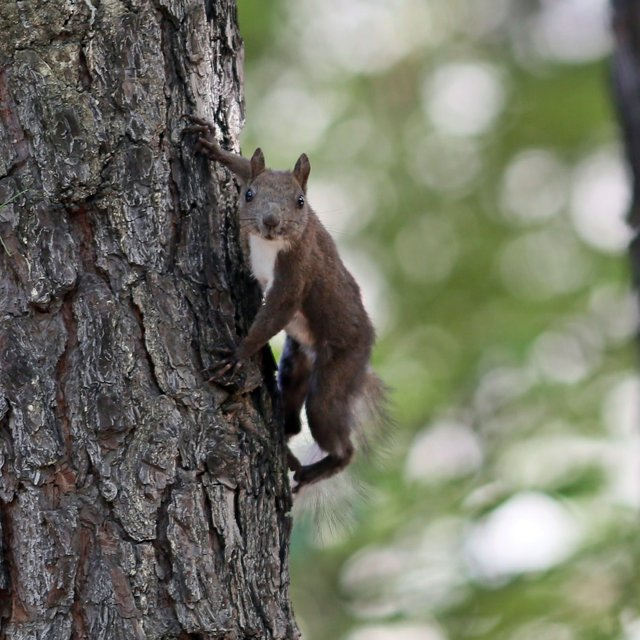chungseolmo: (193, 137, 389, 532)
